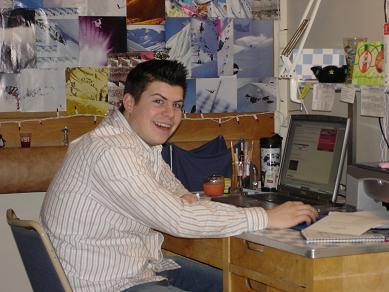person: (39, 58, 320, 292)
